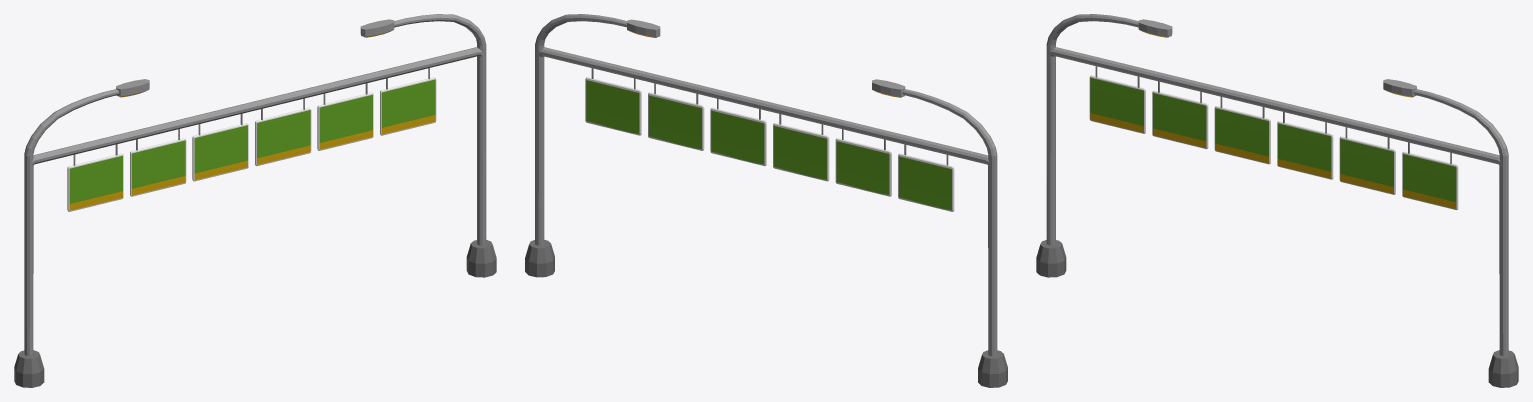
File: stolb i shitok.fbx
3 renders of one model, left to right at view 1: azimuth 30°, elevation 25°; view 2: azimuth 150°, elevation 25°; view 3: azimuth 330°, elevation 25°, orthographic.
Visible parts, largest first — view 1: stolb, shitok3, shitok, shitok5, shitok2, shitok4, shitok6; view 2: stolb, shitok, shitok3, shitok6, shitok5, shitok4, shitok2; view 3: stolb, shitok, shitok5, shitok3, shitok2, shitok6, shitok4.
Boxes of the visible parts, x1,y1,x2,y2 form: stolb: [14, 14, 496, 387]; shitok3: [192, 113, 248, 181]; shitok: [67, 144, 123, 211]; shitok5: [317, 83, 373, 150]; shitok2: [130, 129, 186, 196]; shitok4: [255, 98, 311, 165]; shitok6: [380, 68, 436, 135]; stolb: [525, 14, 1007, 387]; shitok: [898, 144, 954, 211]; shitok3: [773, 114, 829, 181]; shitok6: [585, 68, 641, 135]; shitok5: [648, 83, 704, 150]; shitok4: [710, 98, 766, 166]; shitok2: [835, 129, 891, 196]; stolb: [1036, 14, 1518, 387]; shitok: [1089, 66, 1145, 133]; shitok5: [1339, 127, 1395, 194]; shitok3: [1214, 97, 1270, 164]; shitok2: [1152, 81, 1208, 149]; shitok6: [1402, 142, 1458, 210]; shitok4: [1277, 112, 1333, 179].
Size of the model in its own units: 2225 by 1208 by 116.
Materials: 1 (1 with a texture image).
